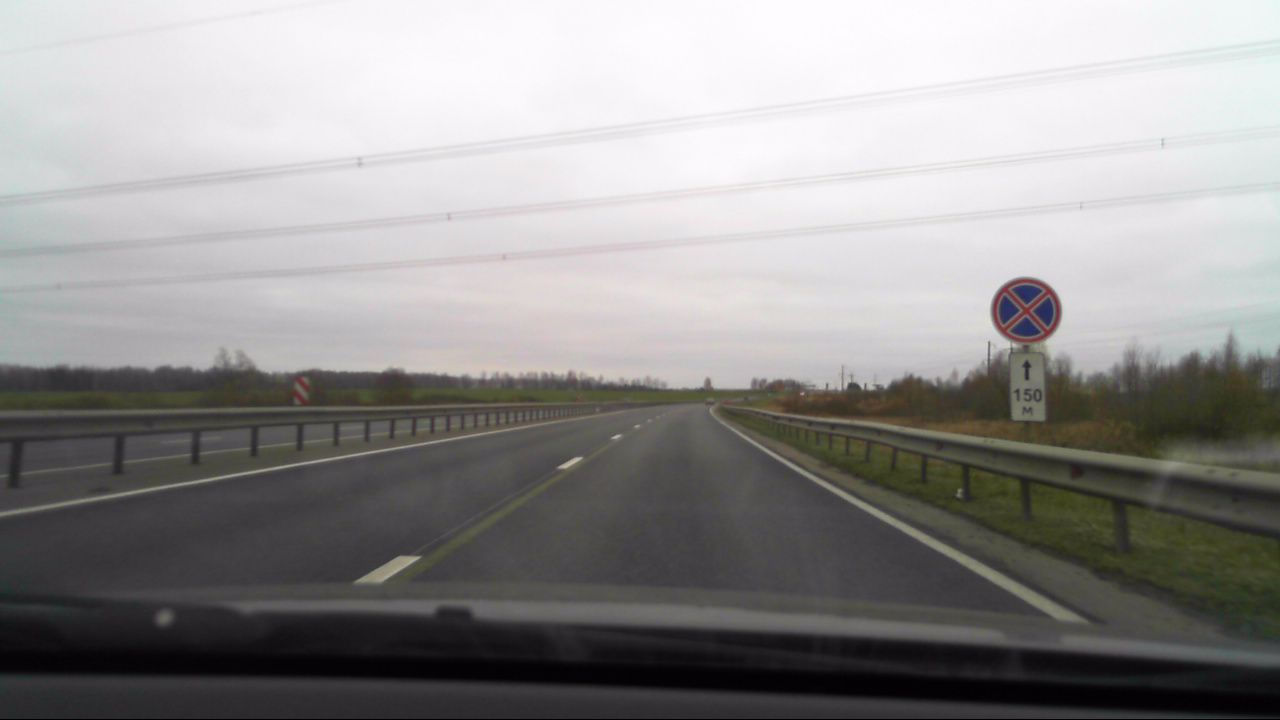No Parking: (991, 279, 1061, 342)
